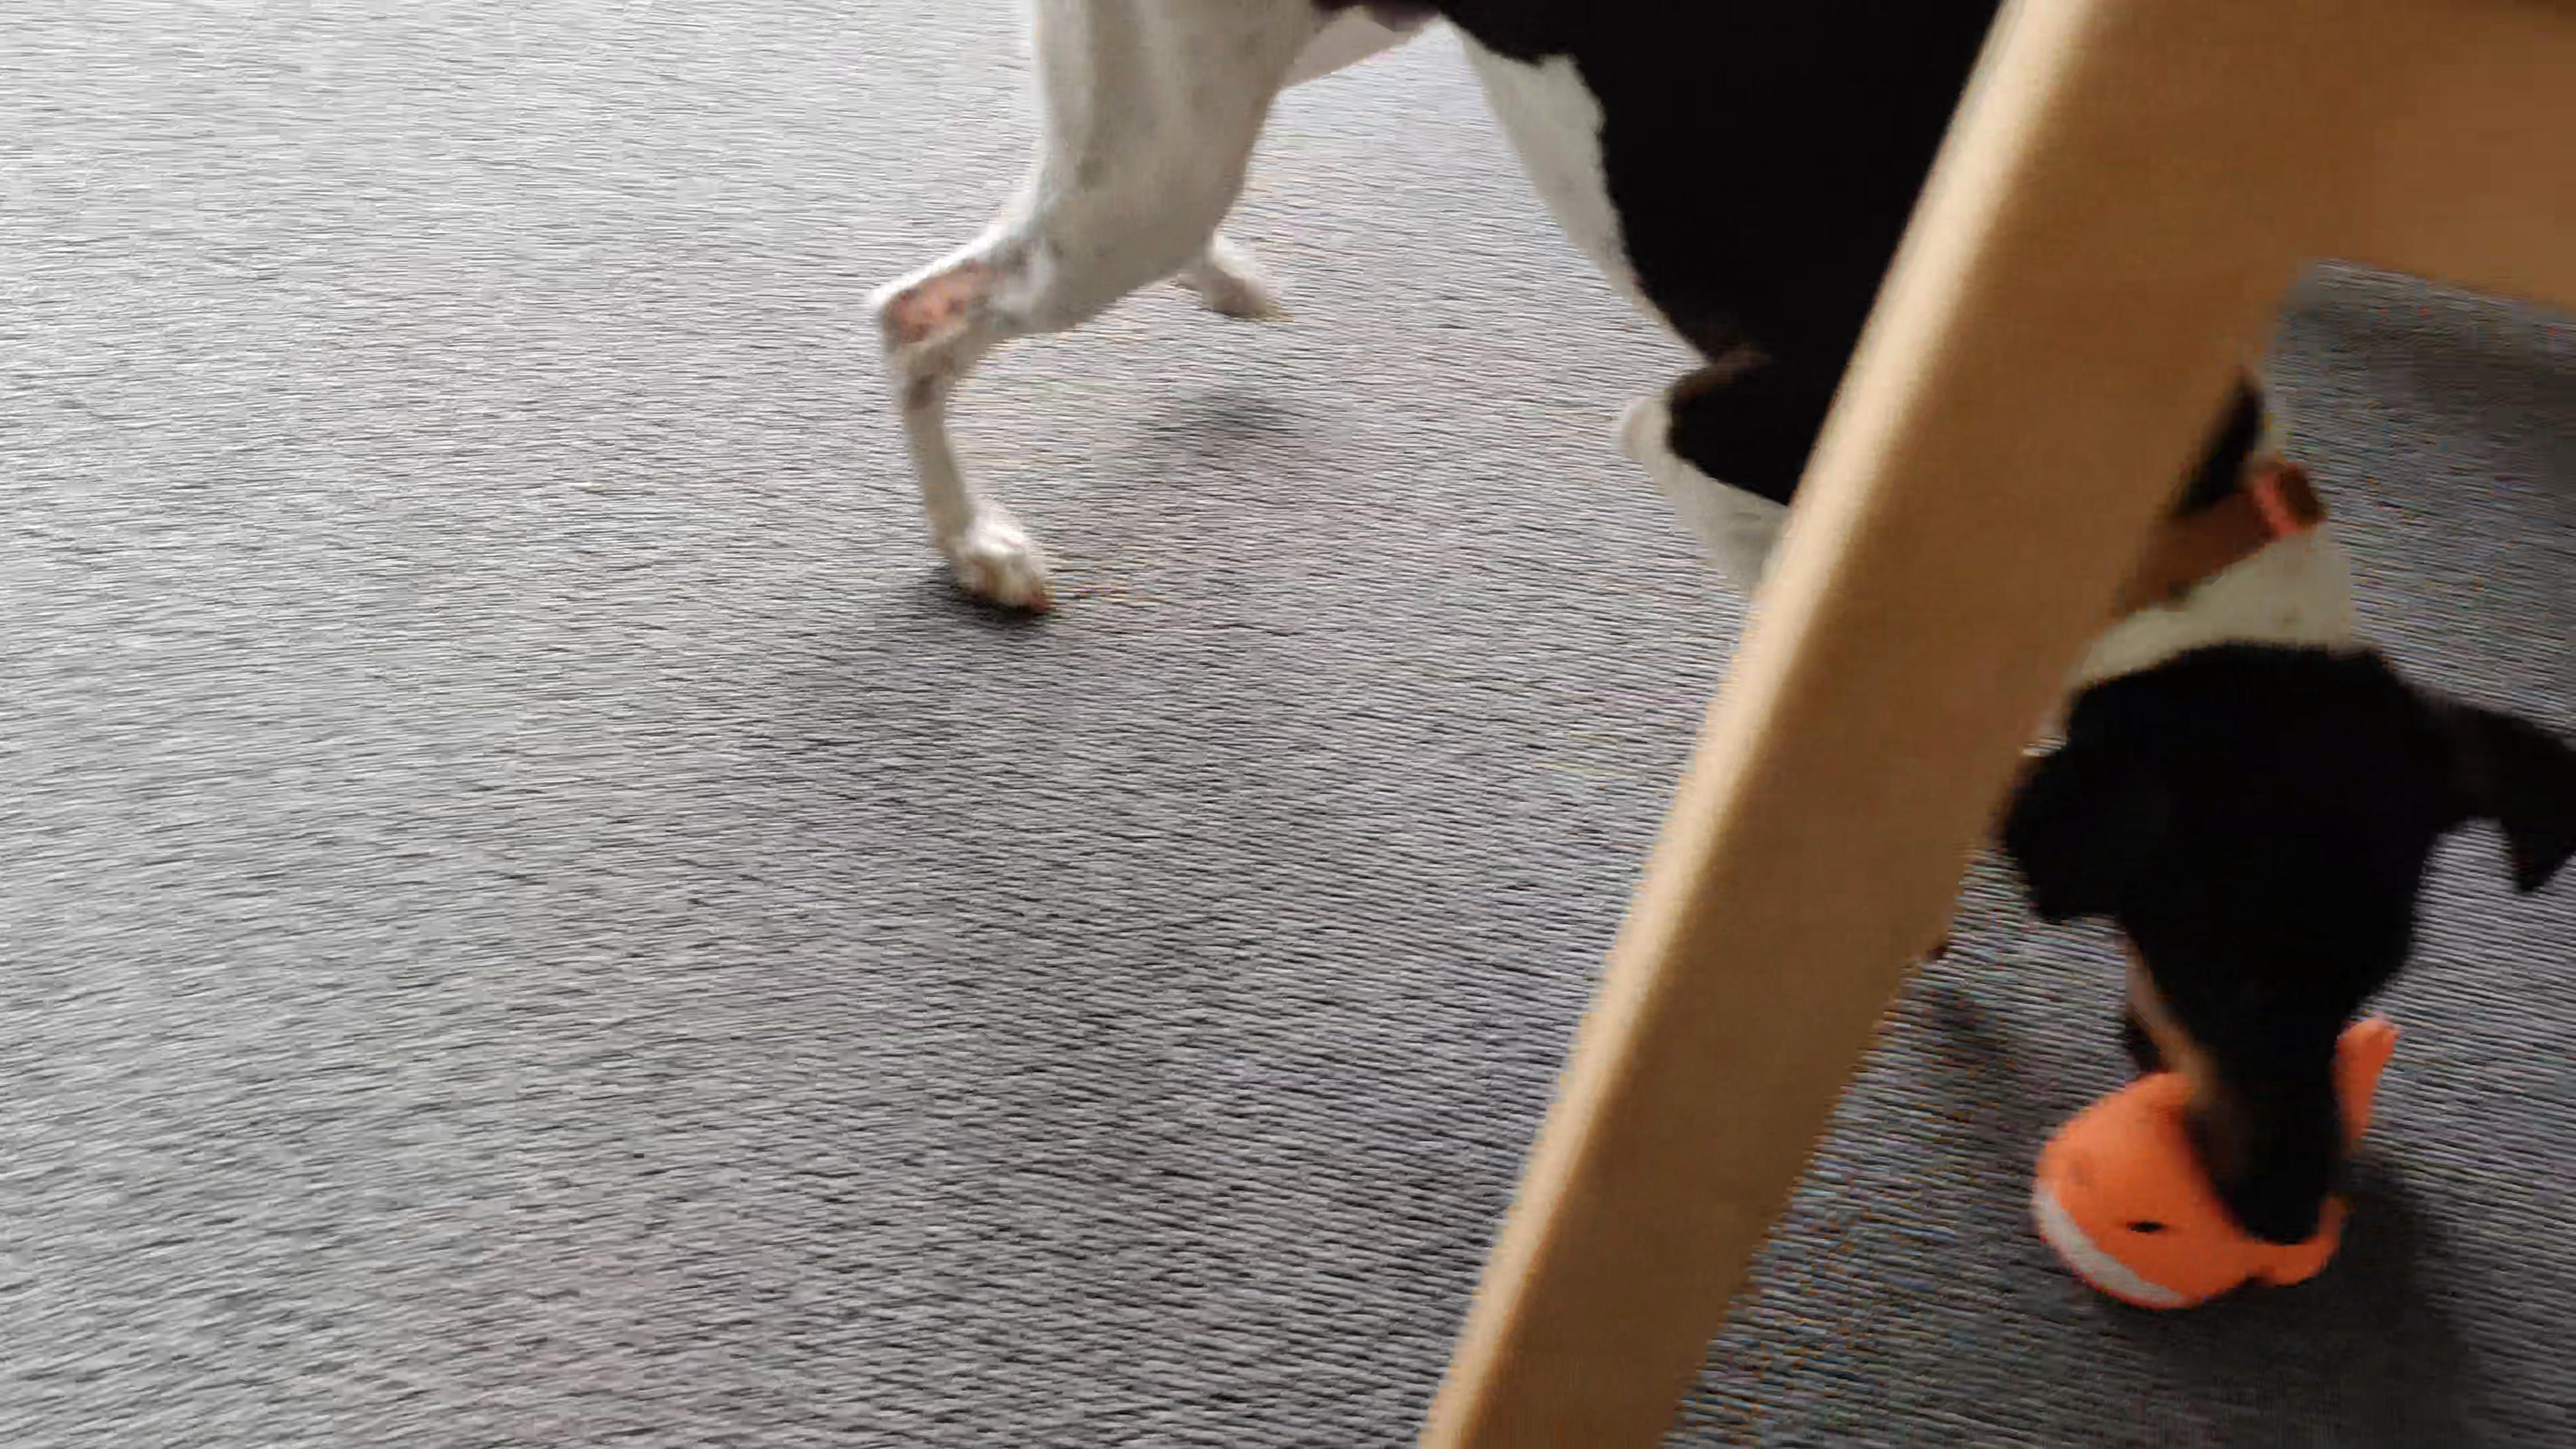Dog: (863, 0, 2571, 1244)
